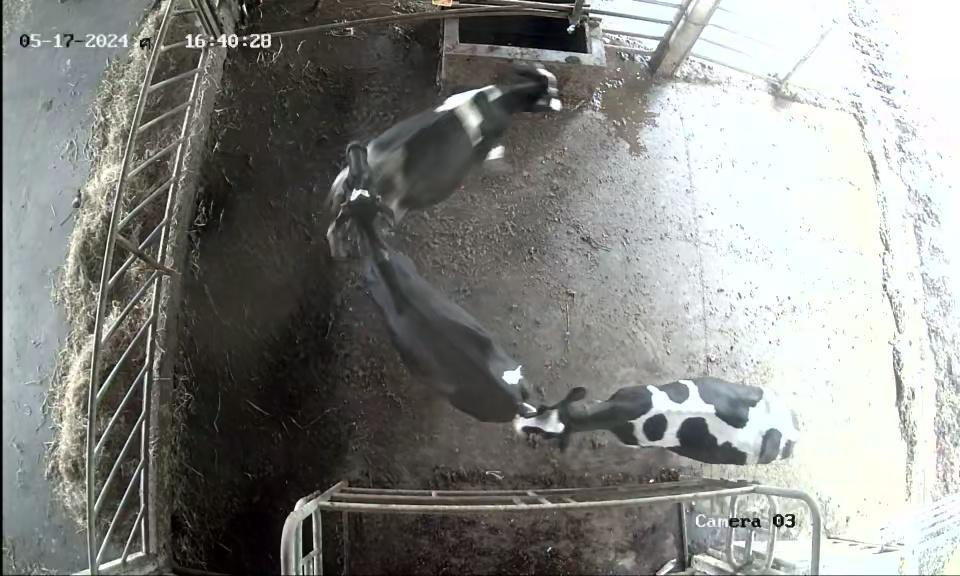propping: (321, 129, 406, 269)
stand: (486, 352, 815, 483), (332, 58, 573, 226)
